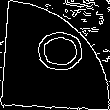O_W: (26, 32, 84, 78)
